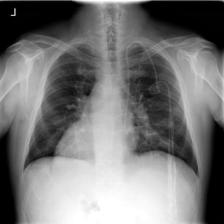normal: (20, 42, 204, 181)
